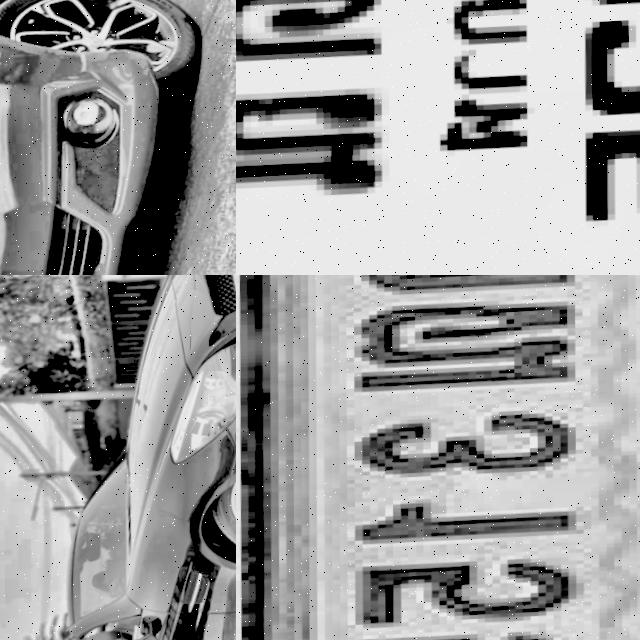license-plate: (249, 275, 640, 640), (236, 0, 640, 275)
